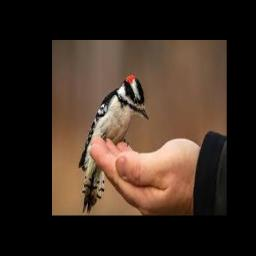Woodpecker: (79, 73, 149, 215)
